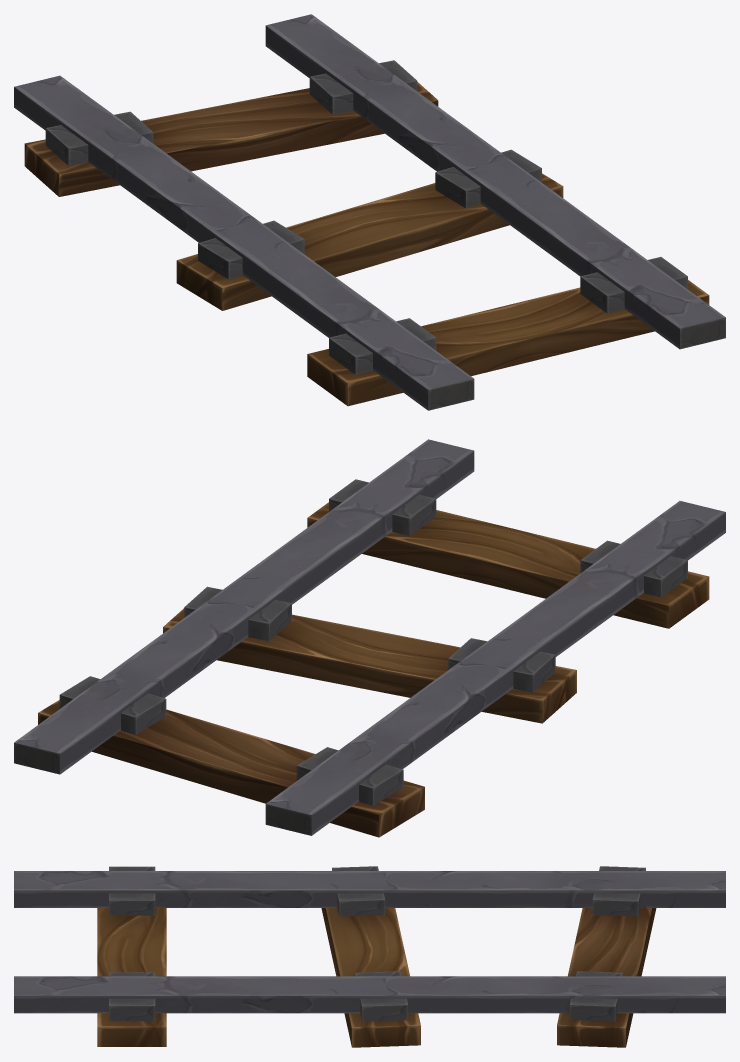
Rendered from Railway_1.FBX.
The picture shows the model from 3 angles, top to bottom: view 1: azimuth 30°, elevation 25°; view 2: azimuth 150°, elevation 25°; view 3: azimuth 270°, elevation 25°; orthographic projection. The views are drawn at different scales.
Parts seen in each view (by area): view 1: Railway_1; view 2: Railway_1; view 3: Railway_1.
Boxes of the visible parts, x1=… form: Railway_1: x1=14, y1=14, x2=725, y2=410; Railway_1: x1=14, y1=439, x2=725, y2=837; Railway_1: x1=14, y1=866, x2=725, y2=1047.
Bounding box in the file's own units: 1.02 × 0.1172 × 2.
